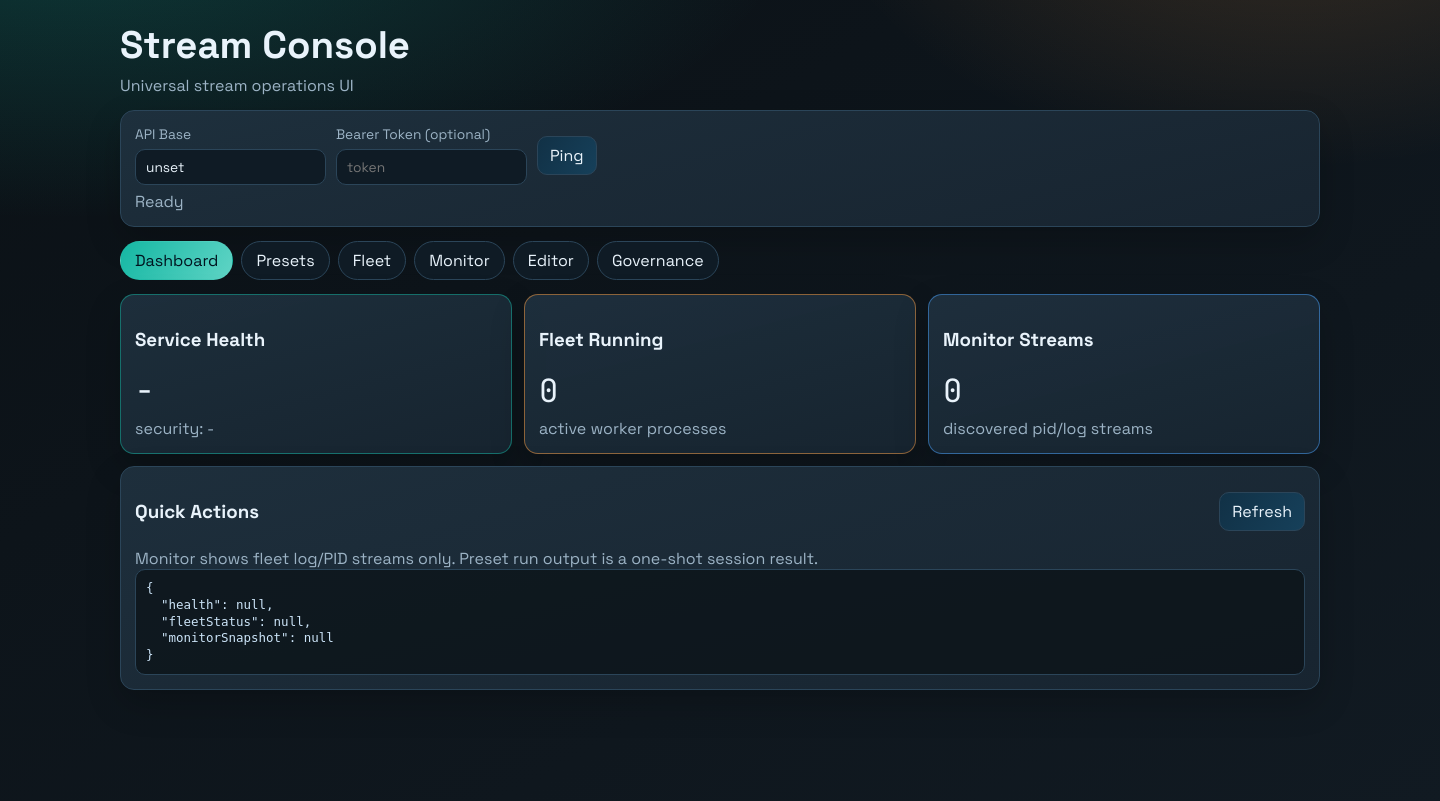
Test: Stream Console App › loads presets when switching tab
The width and height of the screenshot is (1440, 801).
Click the button "Presets".
click(286, 260)  # box [241,241,330,280]
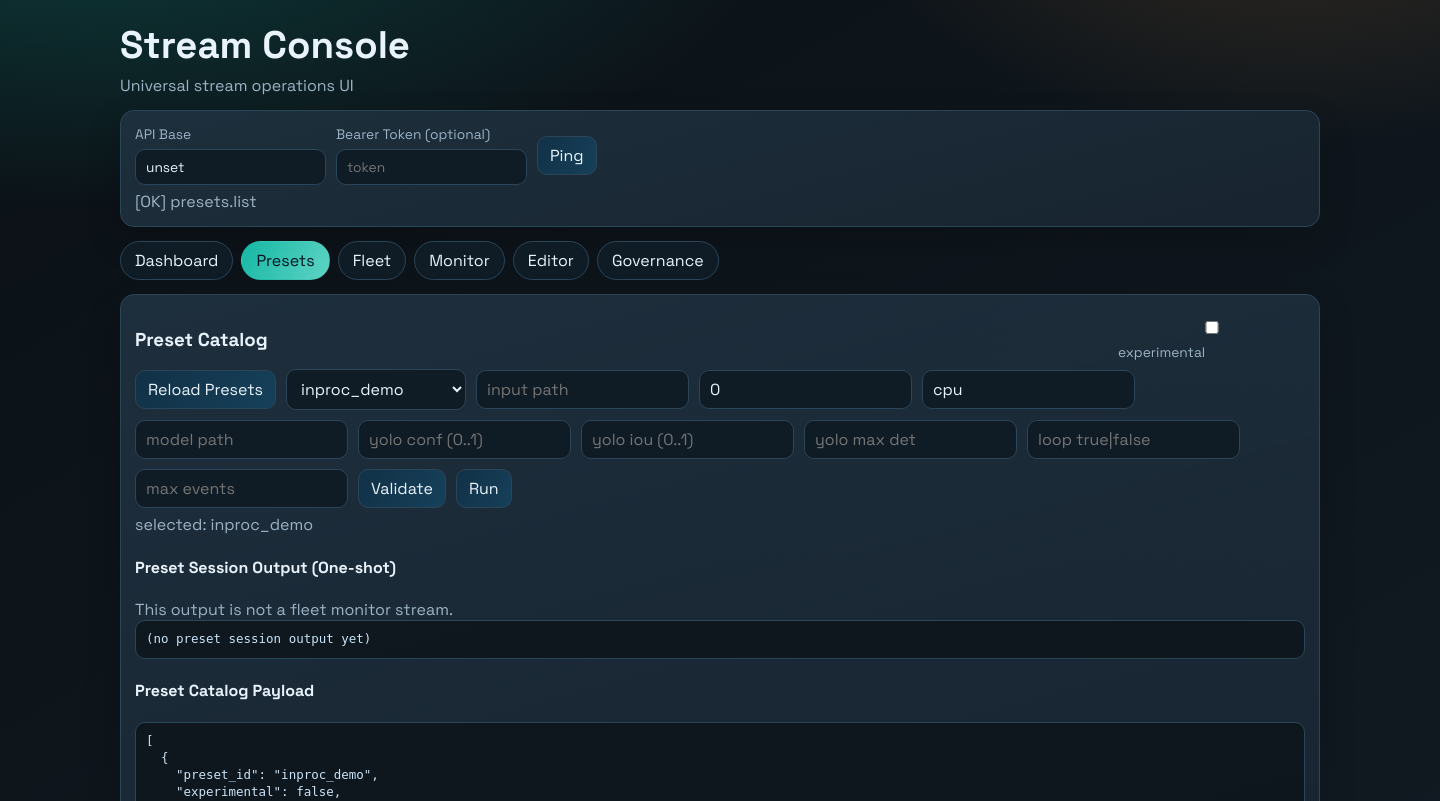
Expected: the dropdown showing "inproc_demo" is shown, [286,369,466,410]
Expected: the heading "Preset Session Output (One-shot)" is shown, [135,557,396,578]
Expected: the text "This output is not a fleet monitor stream." is shown, [135,599,453,620]
